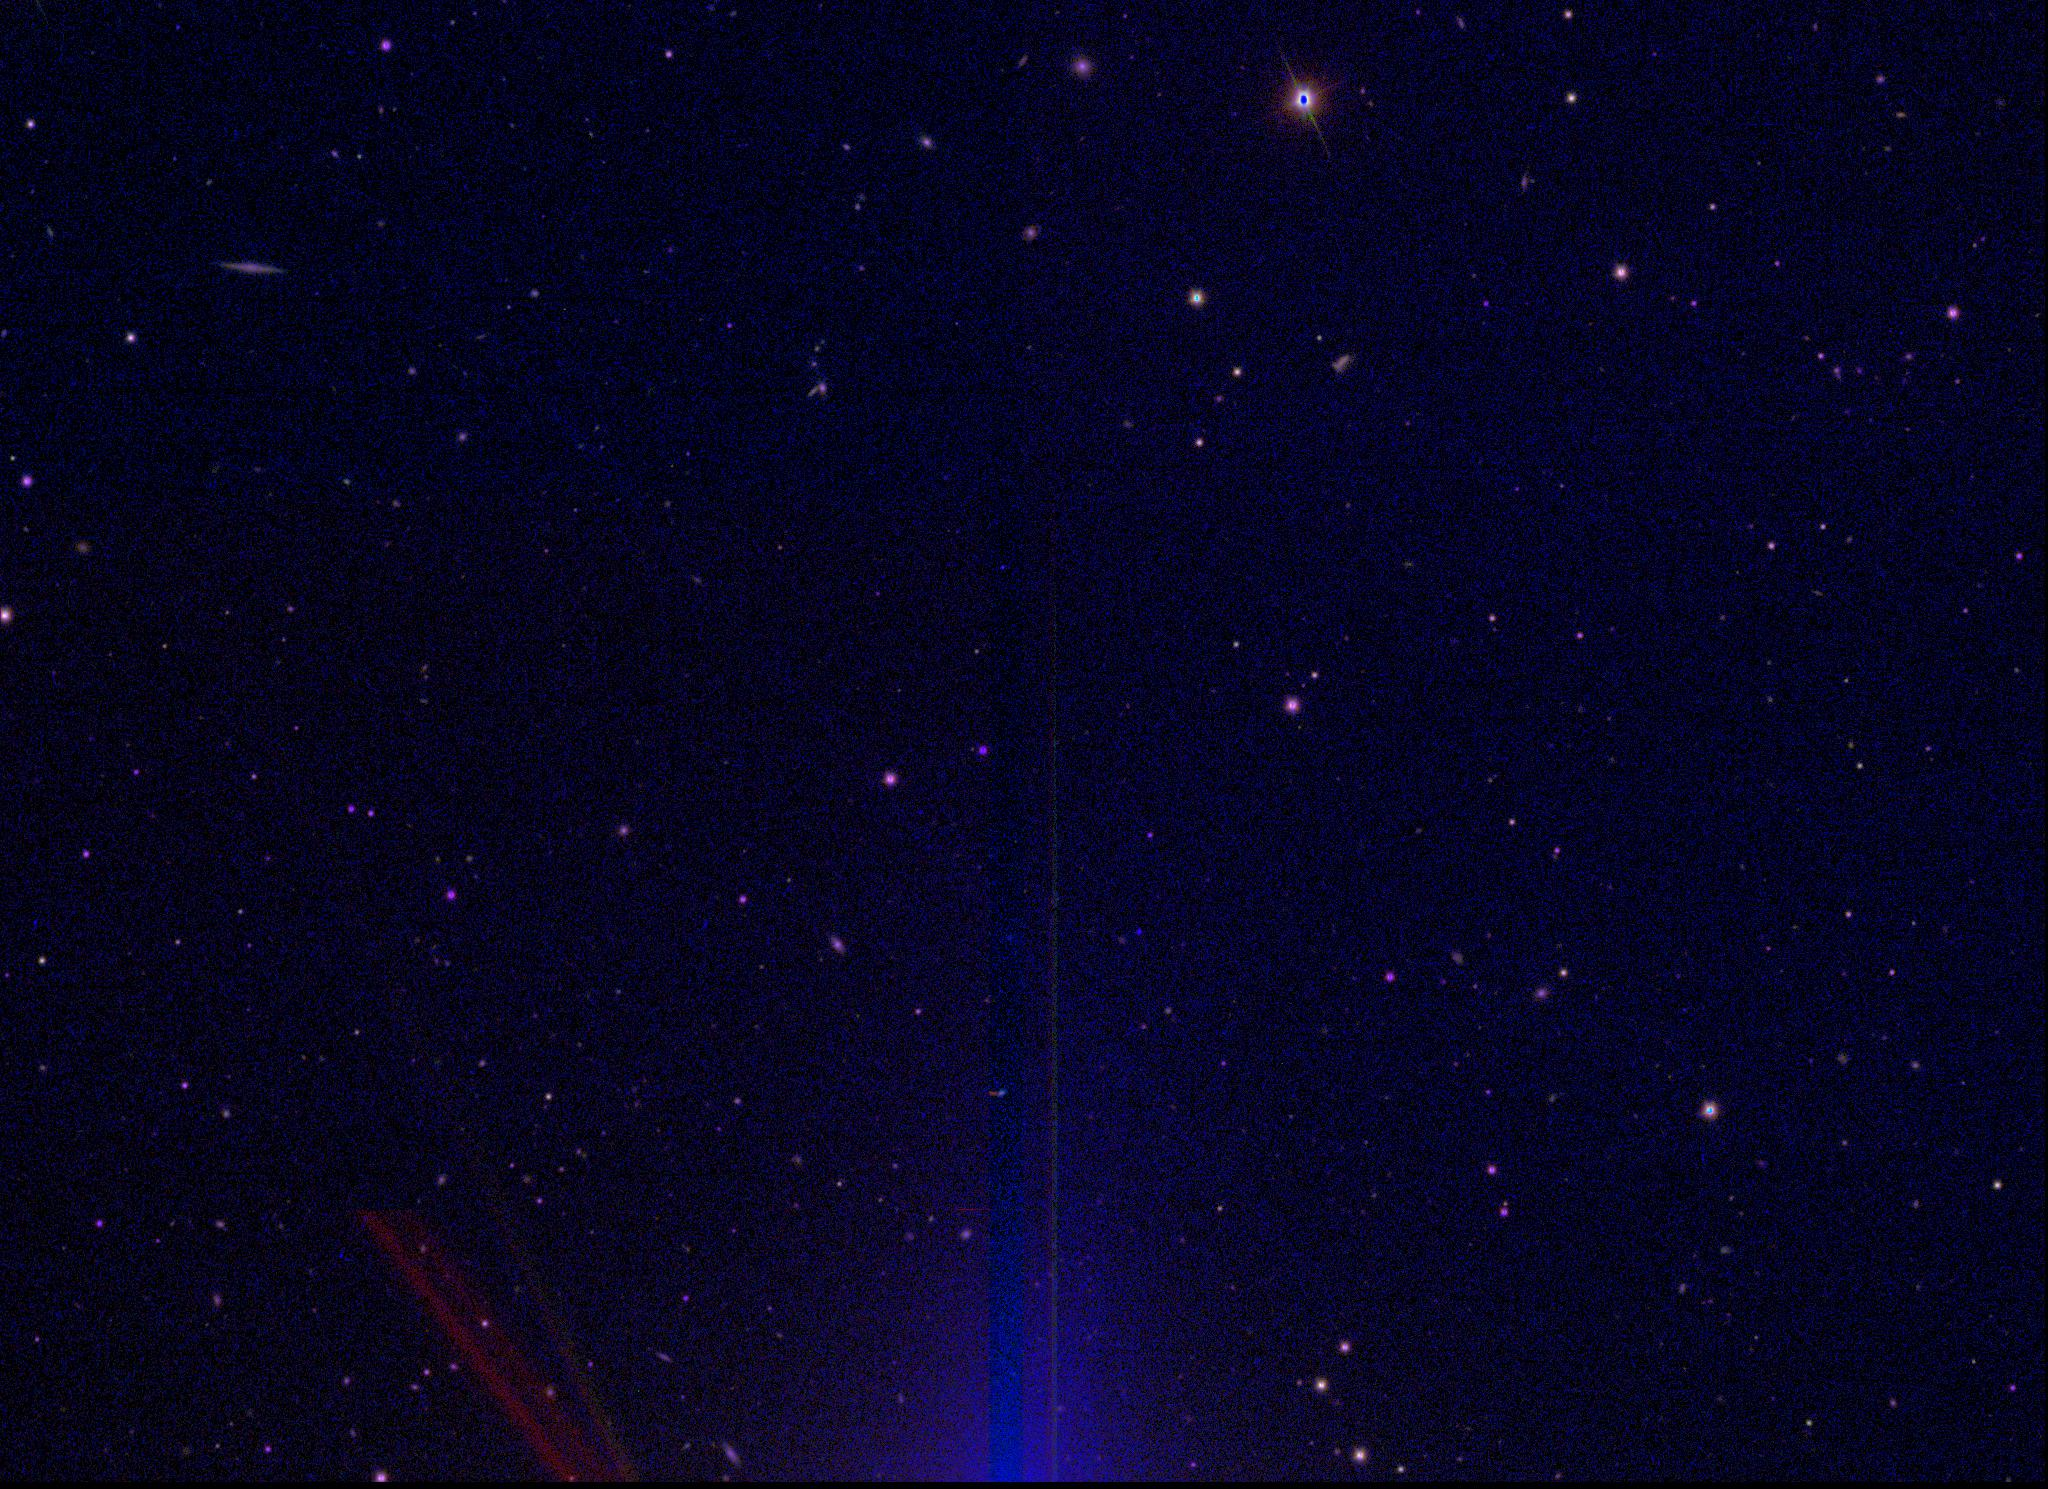L: (1132, 923, 1146, 937)
